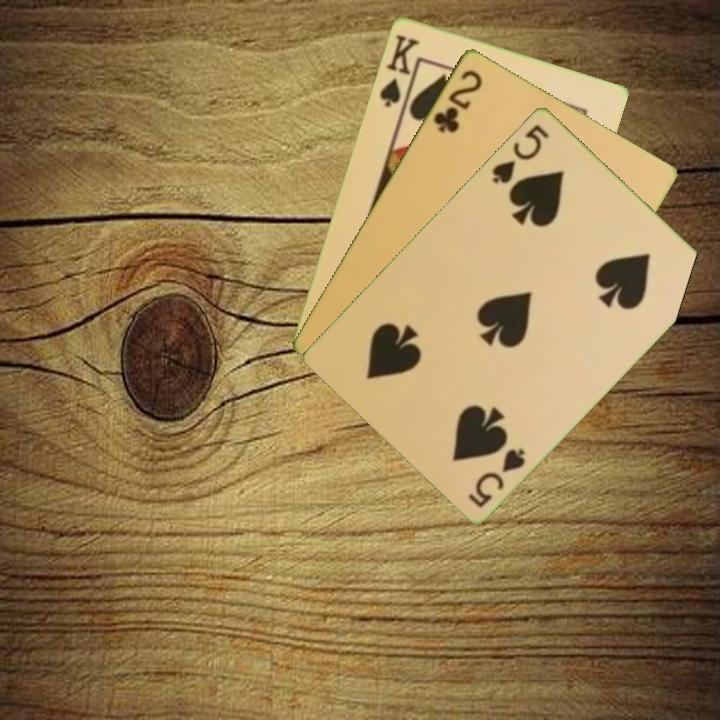2c: (429, 65, 485, 136)
5s: (464, 443, 529, 510), (488, 120, 552, 186)
Ks: (375, 30, 422, 113)
